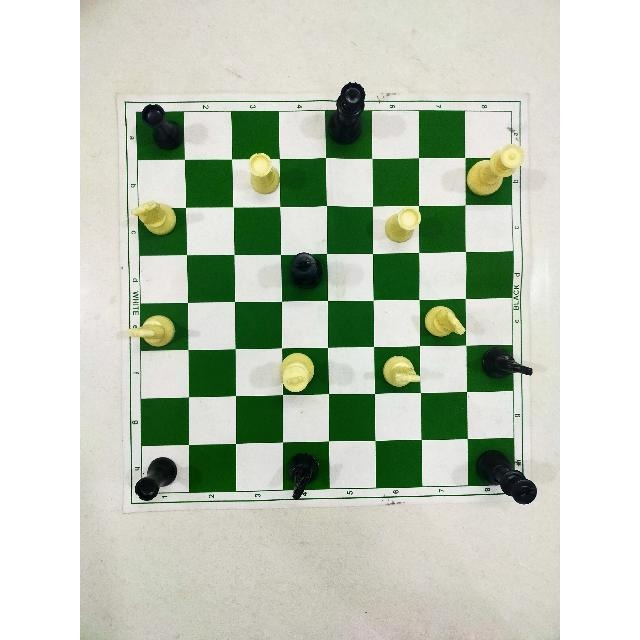black-king: (468, 442, 542, 517), (282, 246, 327, 304)
black-knight: (470, 340, 536, 397), (279, 445, 326, 503)
black-queen: (321, 72, 371, 156)
black-rook: (134, 444, 182, 511), (134, 97, 186, 155)
white-king: (275, 348, 322, 399)
white-knight: (124, 308, 182, 356), (372, 346, 424, 394), (130, 196, 186, 240), (421, 297, 469, 348)
white-queen: (459, 135, 535, 209)
white-rook: (243, 150, 287, 202), (378, 205, 422, 247)
